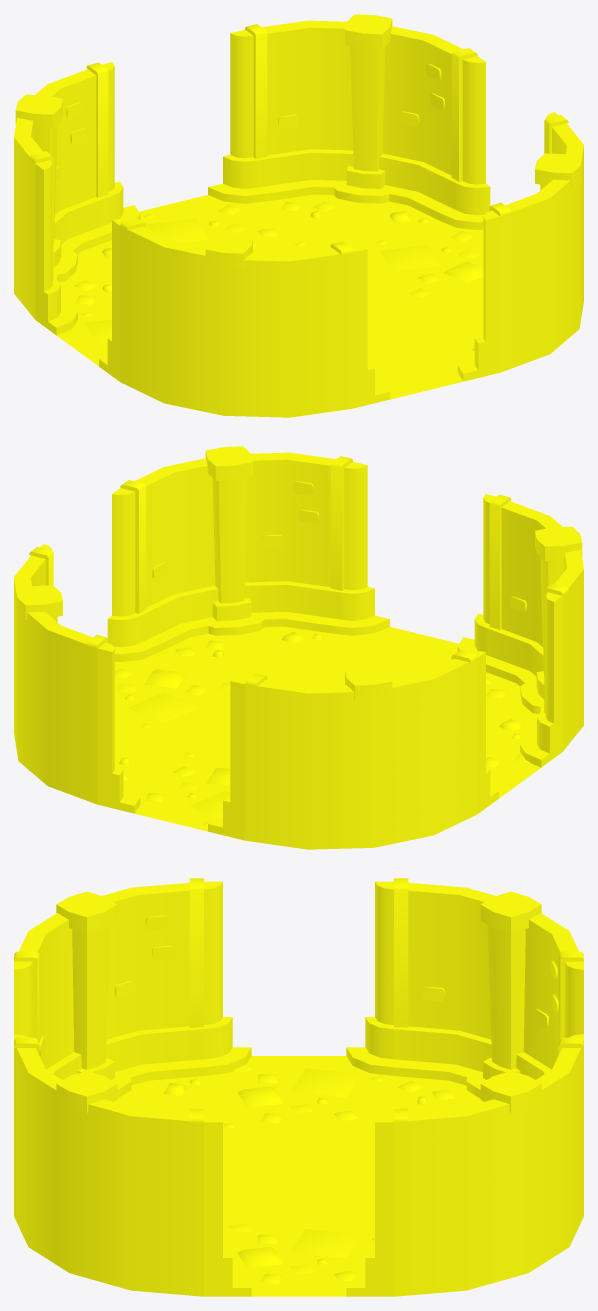
The model's file is 建筑构件_房间_小地牢.glb.
3 views of the same model, one above another, from view 1: azimuth 30°, elevation 25°; view 2: azimuth 150°, elevation 25°; view 3: azimuth 270°, elevation 25° (orthographic). The views are drawn at different scales.
Parts seen in each view (by area): view 1: room-small; view 2: room-small; view 3: room-small.
Part boxes in pixels (x1=…): room-small: x1=14, y1=14, x2=583, y2=417; room-small: x1=14, y1=446, x2=583, y2=849; room-small: x1=14, y1=878, x2=583, y2=1296.
Size of the model in its own units: 12 by 4.23 by 12.
1 material, 1 textured.
